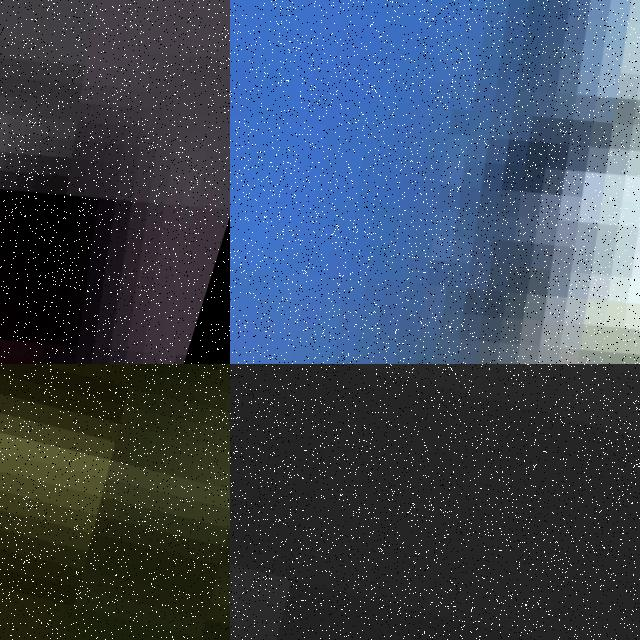drone: (230, 0, 640, 364), (0, 0, 230, 364)
